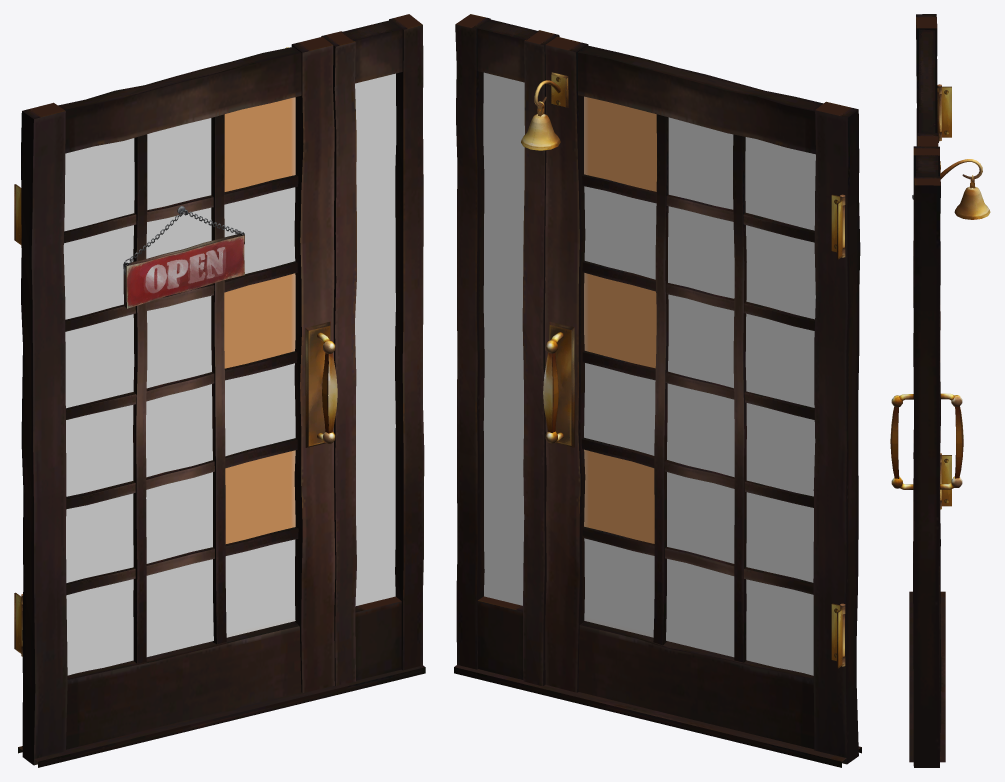
The model's file is Front Door.obj.
3 views of the same model, side by side, from view 1: azimuth 30°, elevation 25°; view 2: azimuth 150°, elevation 25°; view 3: azimuth 270°, elevation 25° (orthographic). The views are drawn at different scales.
Parts seen in each view (by area): view 1: doorA_meshId0, doorA.004_meshId4, doorA_frame_meshId11, doorA.001_meshId1, doorA_frame.003_meshId14, doorA.005_meshId5, doorA_frame.001_meshId12, plate_meshId7, doorA.003_meshId3, plate.001_meshId8, doorA.002_meshId2, doorA_frame.002_meshId13; view 2: doorA_meshId0, doorA.004_meshId4, doorA_frame_meshId11, doorA.001_meshId1, doorA_frame.003_meshId14, doorA.005_meshId5, doorA_frame.001_meshId12, doorA.003_meshId3, doorA.002_meshId2, doorA_frame.002_meshId13, bell.001_meshId10; view 3: doorA_frame.001_meshId12, doorA.001_meshId1, doorA_frame.002_meshId13, doorA.003_meshId3, doorA.002_meshId2, bell.001_meshId10, doorA_frame_meshId11.
Boxes of the visible parts, x1,y1,x2,y2 form: doorA_meshId0: (31,45,335,765); doorA.004_meshId4: (63,118,295,675); doorA_frame_meshId11: (334,25,424,685); doorA.001_meshId1: (21,37,332,764); doorA_frame.003_meshId14: (355,73,396,606); doorA.005_meshId5: (224,97,295,543); doorA_frame.001_meshId12: (18,14,425,767); plate_meshId7: (126,235,244,308); doorA.003_meshId3: (305,321,330,447); plate.001_meshId8: (123,209,244,308); doorA.002_meshId2: (285,47,337,443); doorA_frame.002_meshId13: (14,184,22,656); doorA_meshId0: (545,45,848,764); doorA.004_meshId4: (584,117,815,675); doorA_frame_meshId11: (455,24,544,686); doorA.001_meshId1: (546,36,860,764); doorA_frame.003_meshId14: (483,72,524,605); doorA.005_meshId5: (584,96,656,543); doorA_frame.001_meshId12: (454,14,861,767); doorA.003_meshId3: (537,72,840,661); doorA.002_meshId2: (534,80,563,443); doorA_frame.002_meshId13: (837,194,845,668); bell.001_meshId10: (521,114,560,150); doorA_frame.001_meshId12: (909,132,945,767); doorA.001_meshId1: (898,14,938,477); doorA_frame.002_meshId13: (937,84,951,509); doorA.003_meshId3: (890,88,974,478); doorA.002_meshId2: (890,159,982,489); bell.001_meshId10: (954,186,990,219); doorA_frame_meshId11: (913,180,941,765).
Size of the model in its own units: 127 by 201 by 31.1.
Materials: 8 (8 with a texture image).
